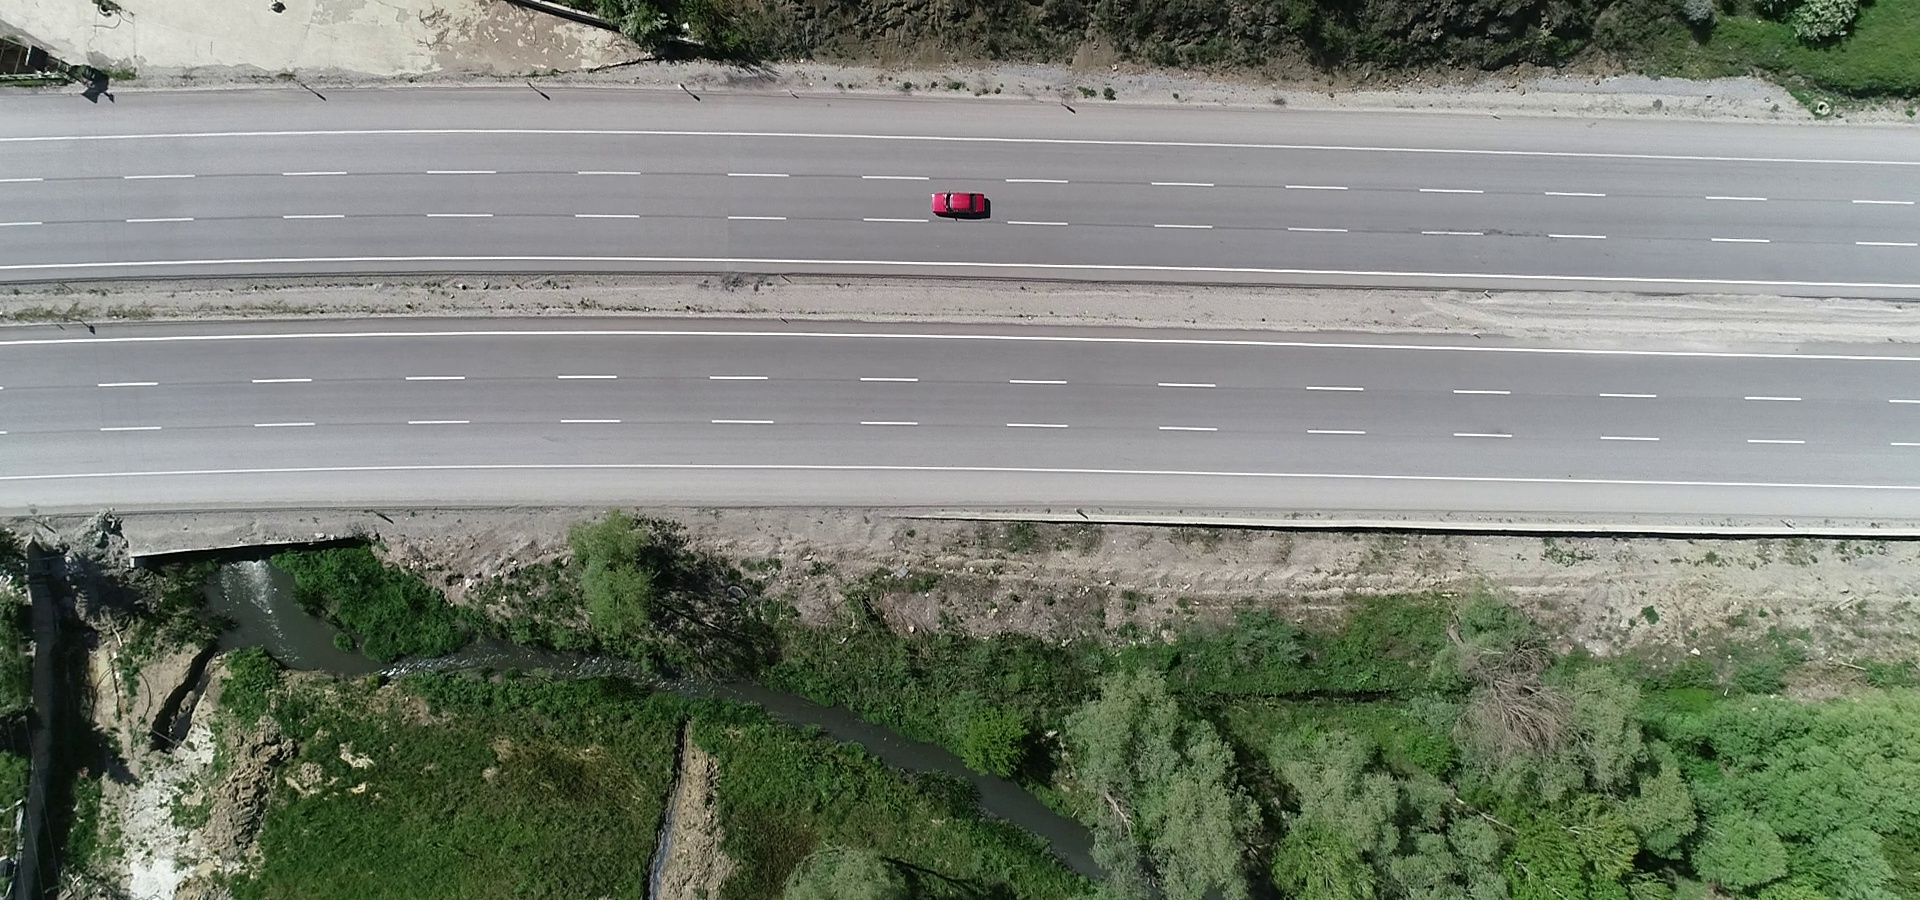arac: (931, 185, 996, 220)
